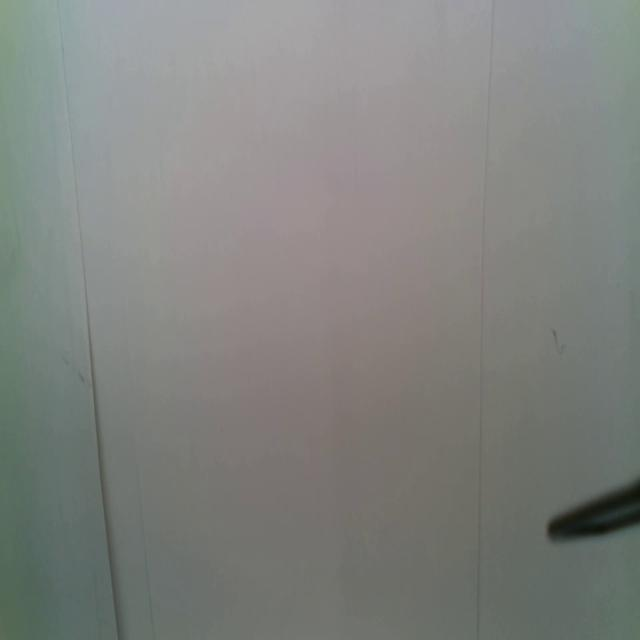crease: (57, 0, 120, 639), (474, 0, 495, 638), (134, 459, 156, 640)
